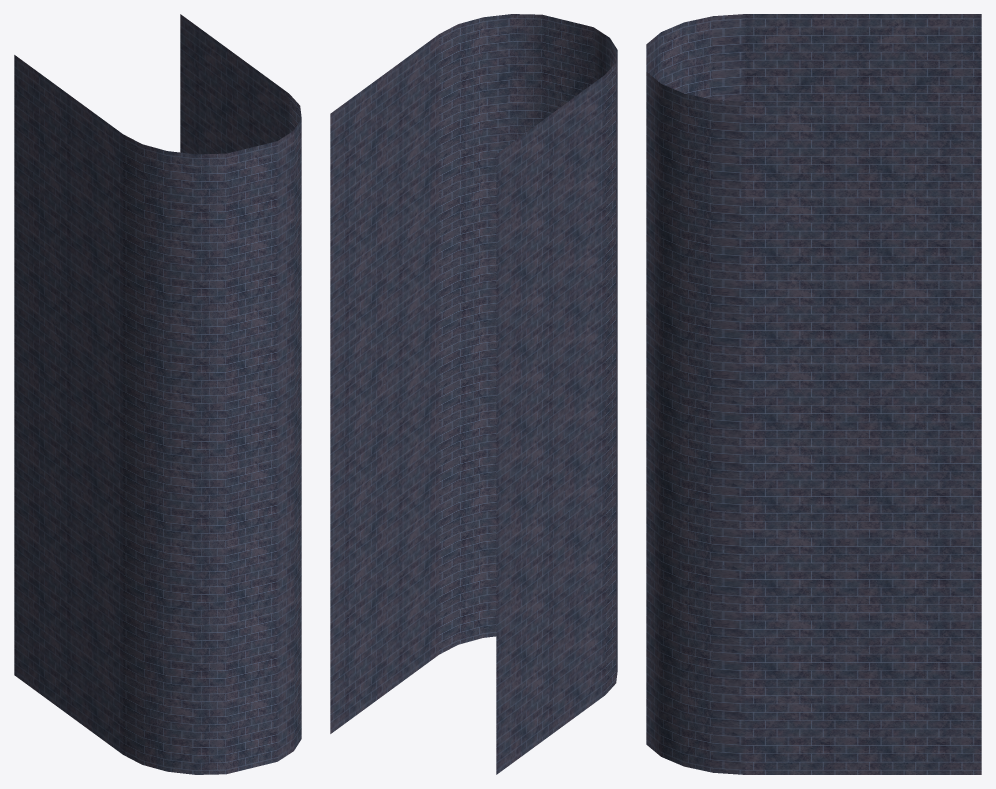
The model's file is building2.fbx.
The picture shows the model from 3 angles, left to right: view 1: azimuth 30°, elevation 25°; view 2: azimuth 150°, elevation 25°; view 3: azimuth 270°, elevation 25°; orthographic projection. The views are drawn at different scales.
Parts seen in each view (by area): view 1: pCylinder8; view 2: pCylinder8; view 3: pCylinder8.
Part boxes in pixels (x1=…): pCylinder8: x1=14, y1=14, x2=301, y2=774; pCylinder8: x1=330, y1=14, x2=617, y2=774; pCylinder8: x1=646, y1=14, x2=981, y2=774.
Bounding box in the file's own units: 370 × 1320 × 596.
